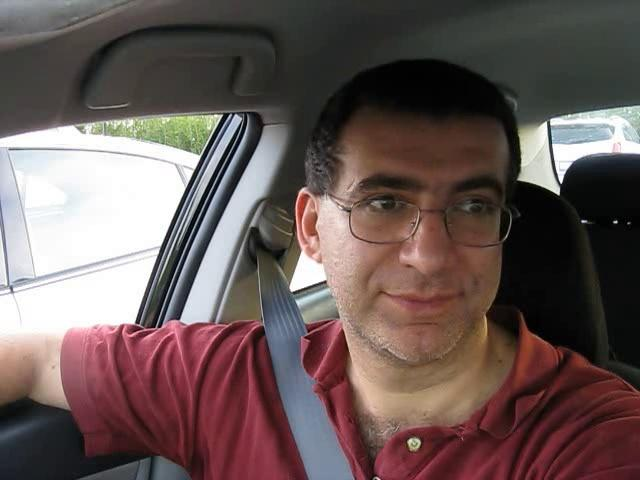no_yawn: (355, 276, 473, 326)
open_eyeL: (347, 187, 423, 230)
open_eyeR: (448, 193, 508, 225)
